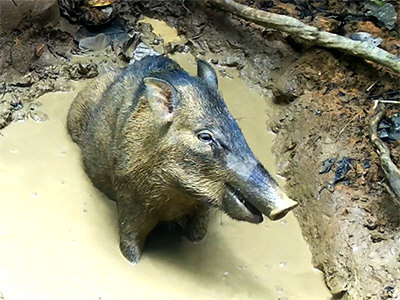boar: (63, 57, 302, 263)
